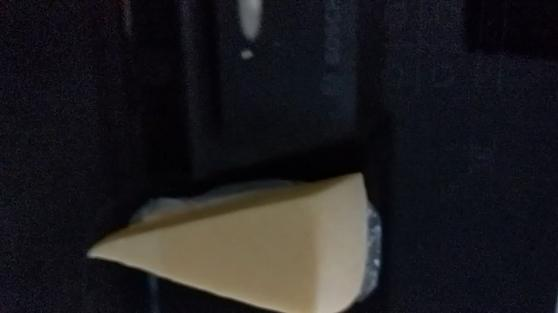cheese: (86, 169, 368, 310)
